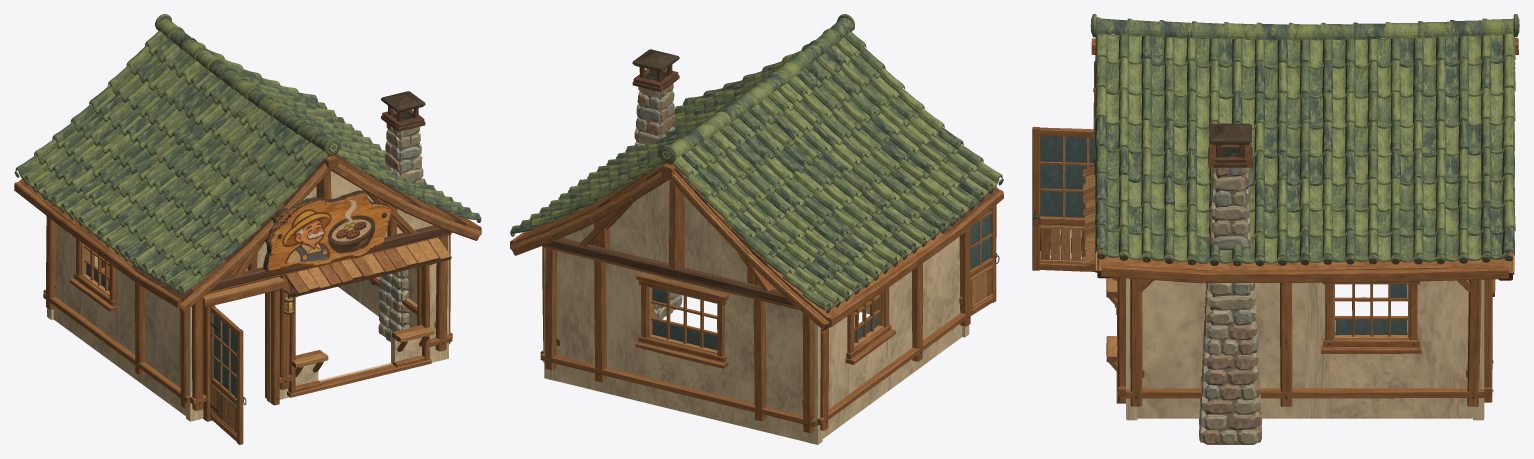
File: SM_GukbapShopShell.fbx
3 views of the same model, side by side, from view 1: azimuth 30°, elevation 25°; view 2: azimuth 150°, elevation 25°; view 3: azimuth 270°, elevation 25° (orthographic). The views are drawn at different scales.
Parts seen in each view (by area): view 1: SM_GukbapShopShell; view 2: SM_GukbapShopShell; view 3: SM_GukbapShopShell.
Part boxes in pixels (<box>): SM_GukbapShopShell: <box>14,14,481,444</box>; SM_GukbapShopShell: <box>510,14,1003,444</box>; SM_GukbapShopShell: <box>1032,14,1519,444</box>.
Size of what is drawn, in the model's own units: 588 by 653 by 501.
Materials: 1 (1 with a texture image).
